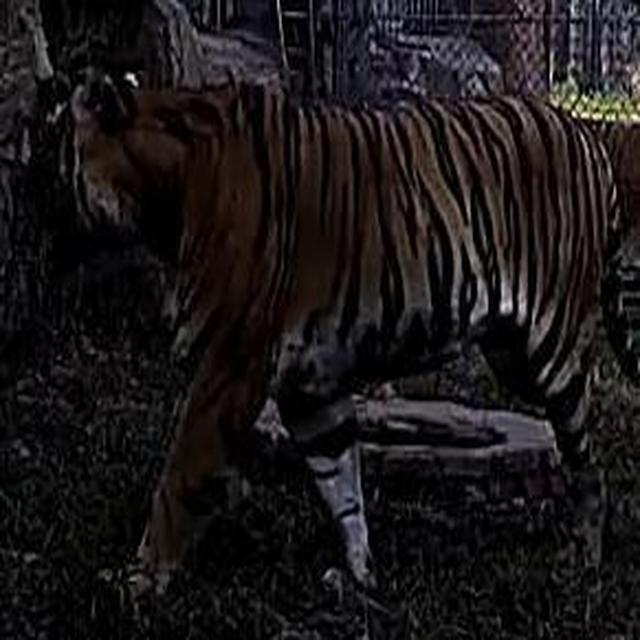tiger: (66, 62, 639, 602)
